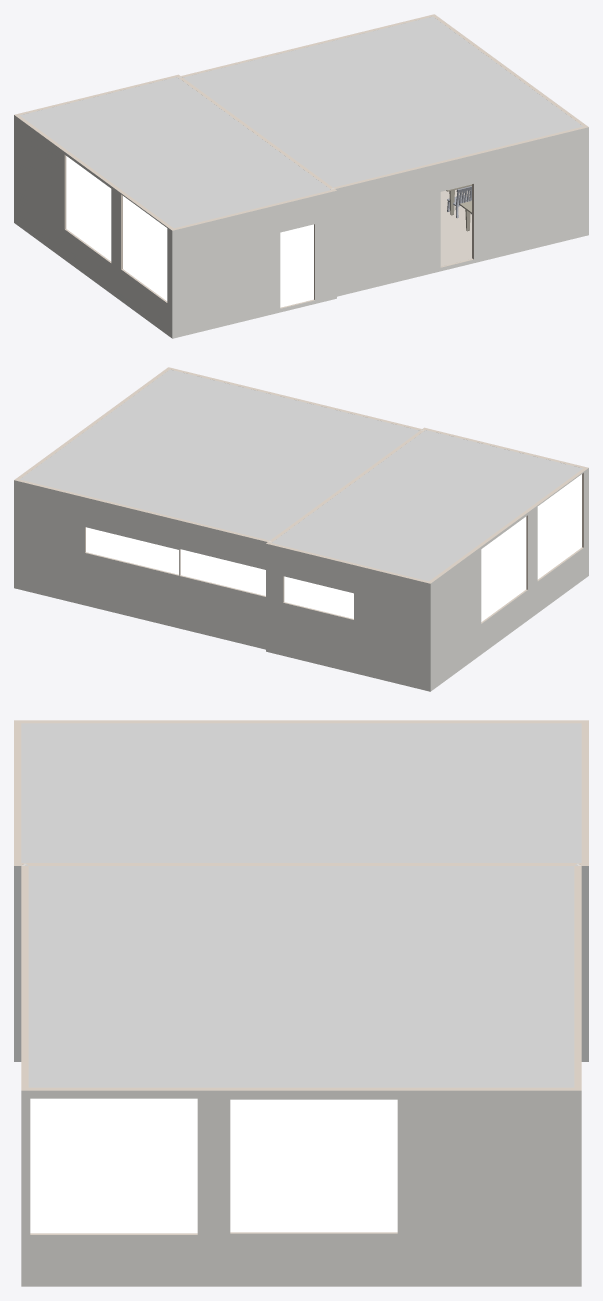
File: Room_234.glb
3 views of the same model, one above another, from view 1: azimuth 30°, elevation 25°; view 2: azimuth 150°, elevation 25°; view 3: azimuth 270°, elevation 25° (orthographic). The views are drawn at different scales.
Visible parts, largest first — view 1: Ceiling_Dining_Room, Wall_0, Ceiling_Living_Room_1, Wall_3, Wall_6, Window_5, Window_6, Door_0, Floor_Dining_Room, Wall_1, Wall_2, Wall_7 (+1 smaller); view 2: Ceiling_Dining_Room, Ceiling_Living_Room_1, Wall_1, Wall_5, Wall_6, Window_5, Window_6, Window_1, Window_0, Window_4, Wall_0, Wall_2 (+2 smaller); view 3: Ceiling_Dining_Room, Ceiling_Living_Room_1, Wall_2, Window_2, Window_3, Wall_6, Wall_0, Wall_1, Wall_7, Wall_4, Wall_8, Wall_3 (+1 smaller).
Boxes of the visible parts, x1,y1,x2,y2 form: Ceiling_Dining_Room: [180, 16, 582, 188]; Wall_0: [333, 126, 588, 296]; Ceiling_Living_Room_1: [21, 77, 330, 227]; Wall_3: [172, 190, 336, 338]; Wall_6: [14, 115, 173, 338]; Window_5: [66, 156, 111, 261]; Window_6: [123, 196, 167, 300]; Door_0: [280, 224, 313, 307]; Floor_Dining_Room: [440, 189, 472, 266]; Wall_1: [181, 14, 434, 77]; Wall_2: [433, 14, 588, 126]; Wall_7: [178, 77, 332, 188]; Ceiling_Dining_Room: [20, 369, 421, 540]; Ceiling_Living_Room_1: [273, 431, 581, 580]; Wall_1: [14, 479, 269, 649]; Wall_5: [266, 543, 430, 691]; Wall_6: [429, 468, 588, 691]; Window_5: [481, 516, 526, 621]; Window_6: [537, 474, 581, 579]; Window_1: [86, 527, 178, 574]; Window_0: [180, 549, 265, 595]; Window_4: [284, 576, 353, 618]; Wall_0: [168, 367, 421, 430]; Wall_2: [14, 367, 169, 479]; Ceiling_Dining_Room: [25, 864, 577, 1087]; Ceiling_Living_Room_1: [25, 723, 577, 864]; Wall_2: [21, 1087, 581, 1286]; Window_2: [30, 1098, 197, 1233]; Window_3: [230, 1099, 397, 1232]; Wall_6: [15, 720, 587, 723]; Wall_0: [21, 866, 28, 1090]; Wall_1: [574, 866, 581, 1090]; Wall_7: [25, 863, 577, 865]; Wall_4: [578, 863, 588, 1061]; Wall_8: [14, 863, 24, 1061]; Wall_3: [14, 720, 21, 865].
Size of the model in its own units: 11.89 by 2.93 by 7.8.
Materials: 12 (3 with a texture image).
